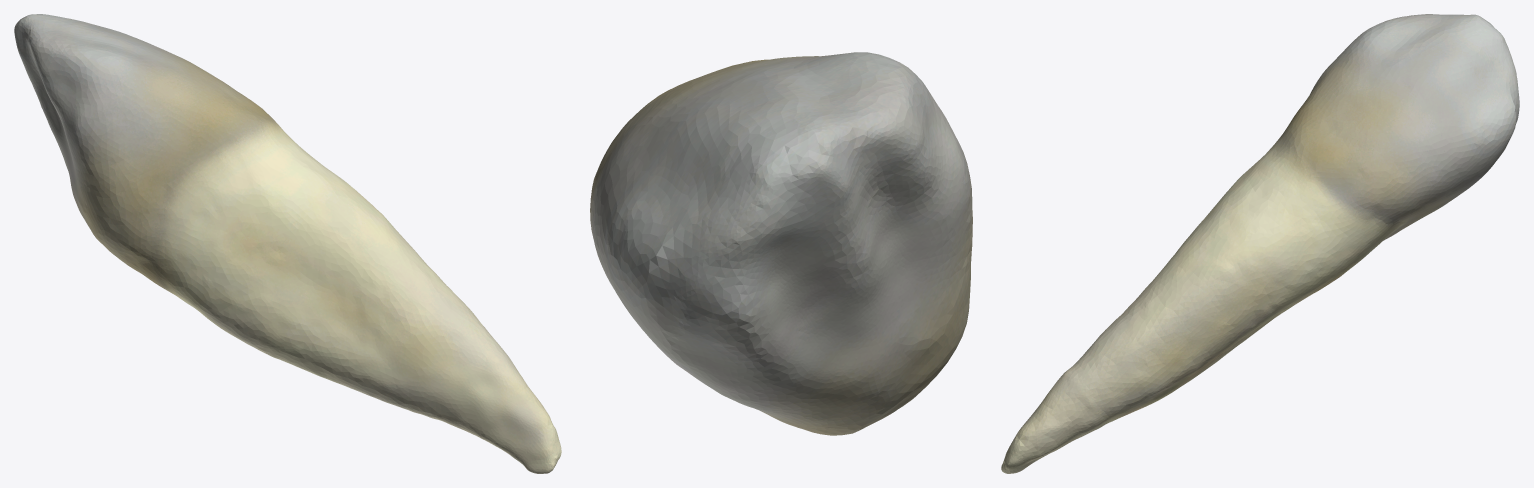
The model's file is 43 quiz.glb.
3 views of the same model, side by side, from view 1: azimuth 30°, elevation 25°; view 2: azimuth 150°, elevation 25°; view 3: azimuth 270°, elevation 25° (orthographic). The views are drawn at different scales.
Visible parts, largest first — view 1: 3MFMeshParent_0; view 2: 3MFMeshParent_0; view 3: 3MFMeshParent_0.
Boxes of the visible parts, bbox=[...] form: 3MFMeshParent_0: bbox=[14, 14, 561, 473]; 3MFMeshParent_0: bbox=[590, 52, 972, 435]; 3MFMeshParent_0: bbox=[1001, 14, 1519, 473].
Size of the model in its own units: 0.3401 by 0.3624 by 0.512.
1 material, 1 textured.
